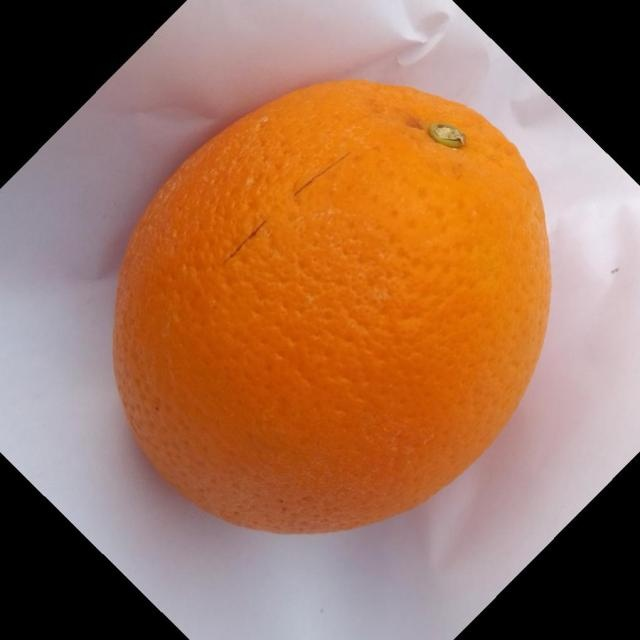agrume: (111, 77, 552, 535)
